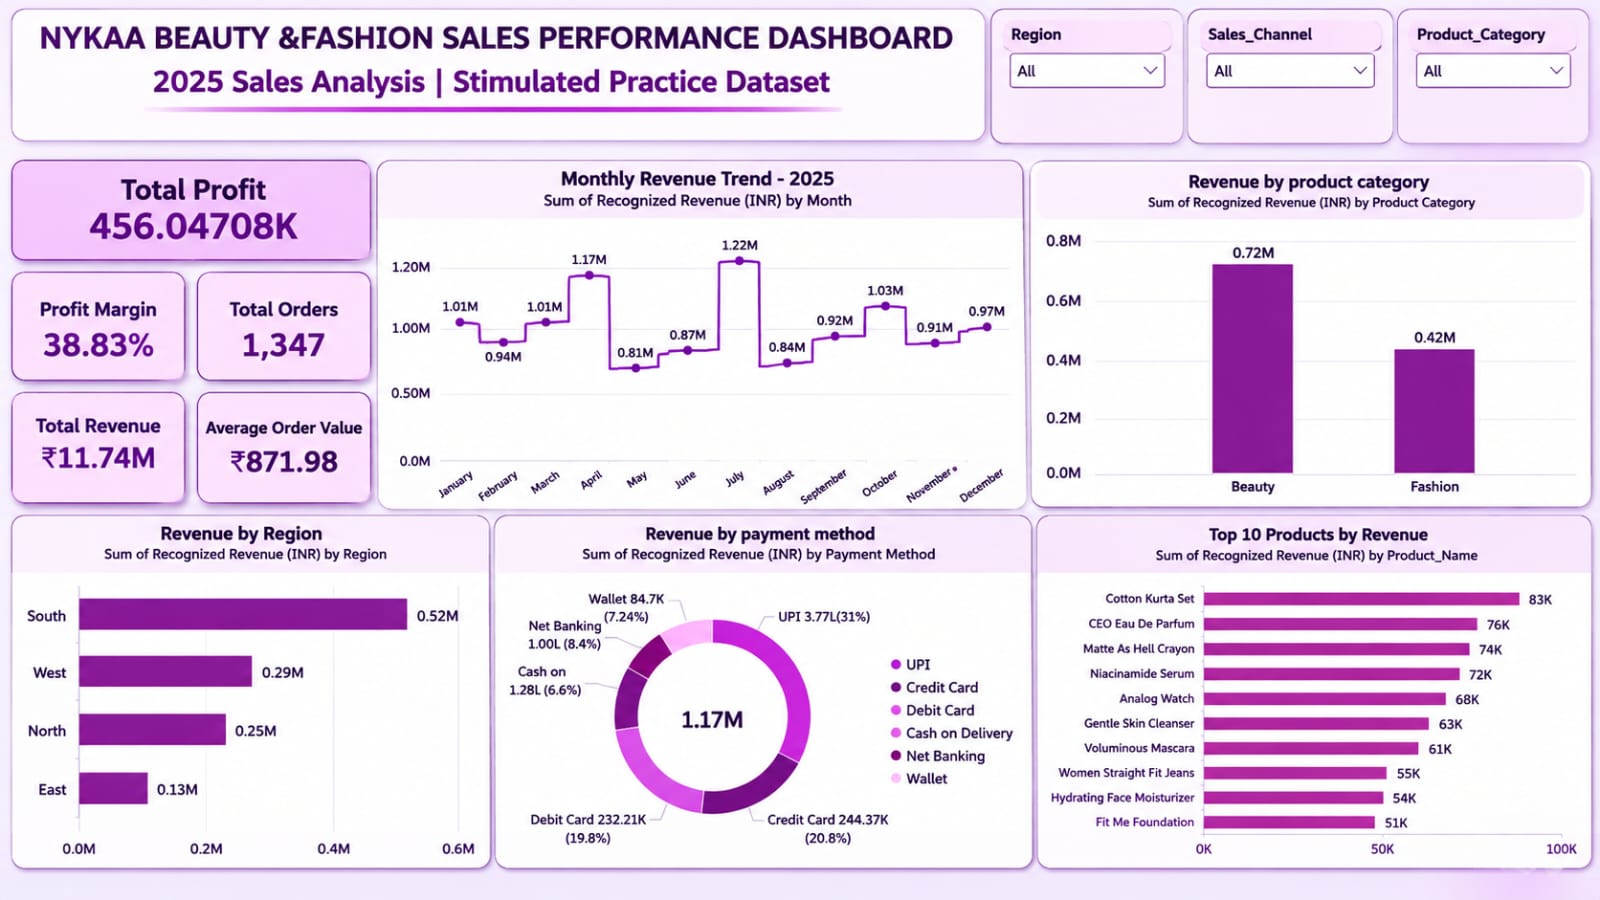

The page's visual inventory and layout, read from the dashboard file:
{"tool":"powerbi","page":{"name":"Page 1","canvas":[1920,1080],"ordinal":0},"visuals":[{"type":"cardVisual","fields":{"Data":["Nykaa_Beauty_Fashion_Simulated_Sales_1500.Total Revenue"]},"box":[0,480,192,120],"z":0},{"type":"clusteredColumnChart","title":"Revenue by product category","fields":{"Category":["Nykaa_Beauty_Fashion_Simulated_Sales_1500.Product_Category"],"Y":["Sum(Nykaa_Beauty_Fashion_Simulated_Sales_1500.Recognized_Revenue_INR)"]},"box":[1200,192,720,408],"z":1000},{"type":"lineChart","title":"Monthly Revenue trend-2025","fields":{"Category":["Nykaa_Beauty_Fashion_Simulated_Sales_1500.Order_Date.Variation.Date Hierarchy.Year","Nykaa_Beauty_Fashion_Simulated_Sales_1500.Order_Date.Variation.Date Hierarchy.Quarter","Nykaa_Beauty_Fashion_Simulated_Sales_1500.Order_Date.Variation.Date Hierarchy.Month","Nykaa_Beauty_Fashion_Simulated_Sales_1500.Order_Date.Variation.Date Hierarchy.Day"],"Y":["Sum(Nykaa_Beauty_Fashion_Simulated_Sales_1500.Recognized_Revenue_INR)"]},"box":[432,192,768,408],"z":2000},{"type":"clusteredBarChart","title":"Revenue by Region","fields":{"Category":["Nykaa_Beauty_Fashion_Simulated_Sales_1500.Region"],"Y":["Sum(Nykaa_Beauty_Fashion_Simulated_Sales_1500.Recognized_Revenue_INR)"]},"box":[0,600,576,480],"z":3000},{"type":"donutChart","title":"Revenue by payment method","fields":{"Category":["Nykaa_Beauty_Fashion_Simulated_Sales_1500.Payment_Method"],"Y":["Sum(Nykaa_Beauty_Fashion_Simulated_Sales_1500.Recognized_Revenue_INR)"]},"box":[576,600,624,480],"z":4000},{"type":"clusteredBarChart","title":"Top 10 Products by Revenue","fields":{"Category":["Nykaa_Beauty_Fashion_Simulated_Sales_1500.Product_Name"],"Y":["Sum(Nykaa_Beauty_Fashion_Simulated_Sales_1500.Recognized_Revenue_INR)"]},"box":[1200,600,720,480],"z":5000},{"type":"slicer","fields":{"Values":["Nykaa_Beauty_Fashion_Simulated_Sales_1500.Region"]},"box":[1200,0,240,168],"z":6000},{"type":"slicer","fields":{"Values":["Nykaa_Beauty_Fashion_Simulated_Sales_1500.Product_Category"]},"box":[1680,0,240,168],"z":7000},{"type":"slicer","fields":{"Values":["Nykaa_Beauty_Fashion_Simulated_Sales_1500.Sales_Channel"]},"box":[1440,0,240,168],"z":8000},{"type":"textbox","title":"NYKAA BEAUTY &FASHION SALES PERFORMANCE DASHBOARD","box":[0,0,1200,168],"z":9000},{"type":"cardVisual","fields":{"Data":["Nykaa_Beauty_Fashion_Simulated_Sales_1500.Total Orders"]},"box":[216,336,216,120],"z":10000},{"type":"cardVisual","fields":{"Data":["Nykaa_Beauty_Fashion_Simulated_Sales_1500.Total Profit"]},"box":[0,192,432,120],"z":11000},{"type":"cardVisual","fields":{"Data":["Nykaa_Beauty_Fashion_Simulated_Sales_1500.Profit Margin"]},"box":[0,336,192,120],"z":12000},{"type":"cardVisual","fields":{"Data":["Nykaa_Beauty_Fashion_Simulated_Sales_1500.Average Order Value"]},"box":[216,480,216,120],"z":13000}]}

Visuals, with their boxes in screenshot pixels (x1, y1, x2, y2), scaled from the page's 1920x1080 canvas onto the 1600x900 screenshot:
cardVisual - Nykaa_Beauty_Fashion_Simulated_Sales_1500.Total Revenue: [0, 400, 160, 500]
"Revenue by product category" clusteredColumnChart: [1000, 160, 1599, 500]
"Monthly Revenue trend-2025" lineChart: [360, 160, 1000, 500]
"Revenue by Region" clusteredBarChart: [0, 500, 480, 899]
"Revenue by payment method" donutChart: [480, 500, 1000, 899]
"Top 10 Products by Revenue" clusteredBarChart: [1000, 500, 1599, 899]
slicer - Nykaa_Beauty_Fashion_Simulated_Sales_1500.Region: [1000, 0, 1200, 140]
slicer - Nykaa_Beauty_Fashion_Simulated_Sales_1500.Product_Category: [1400, 0, 1599, 140]
slicer - Nykaa_Beauty_Fashion_Simulated_Sales_1500.Sales_Channel: [1200, 0, 1400, 140]
"NYKAA BEAUTY &FASHION SALES PERFORMANCE DASHBOARD" textbox: [0, 0, 1000, 140]
cardVisual - Nykaa_Beauty_Fashion_Simulated_Sales_1500.Total Orders: [180, 280, 360, 380]
cardVisual - Nykaa_Beauty_Fashion_Simulated_Sales_1500.Total Profit: [0, 160, 360, 260]
cardVisual - Nykaa_Beauty_Fashion_Simulated_Sales_1500.Profit Margin: [0, 280, 160, 380]
cardVisual - Nykaa_Beauty_Fashion_Simulated_Sales_1500.Average Order Value: [180, 400, 360, 500]
